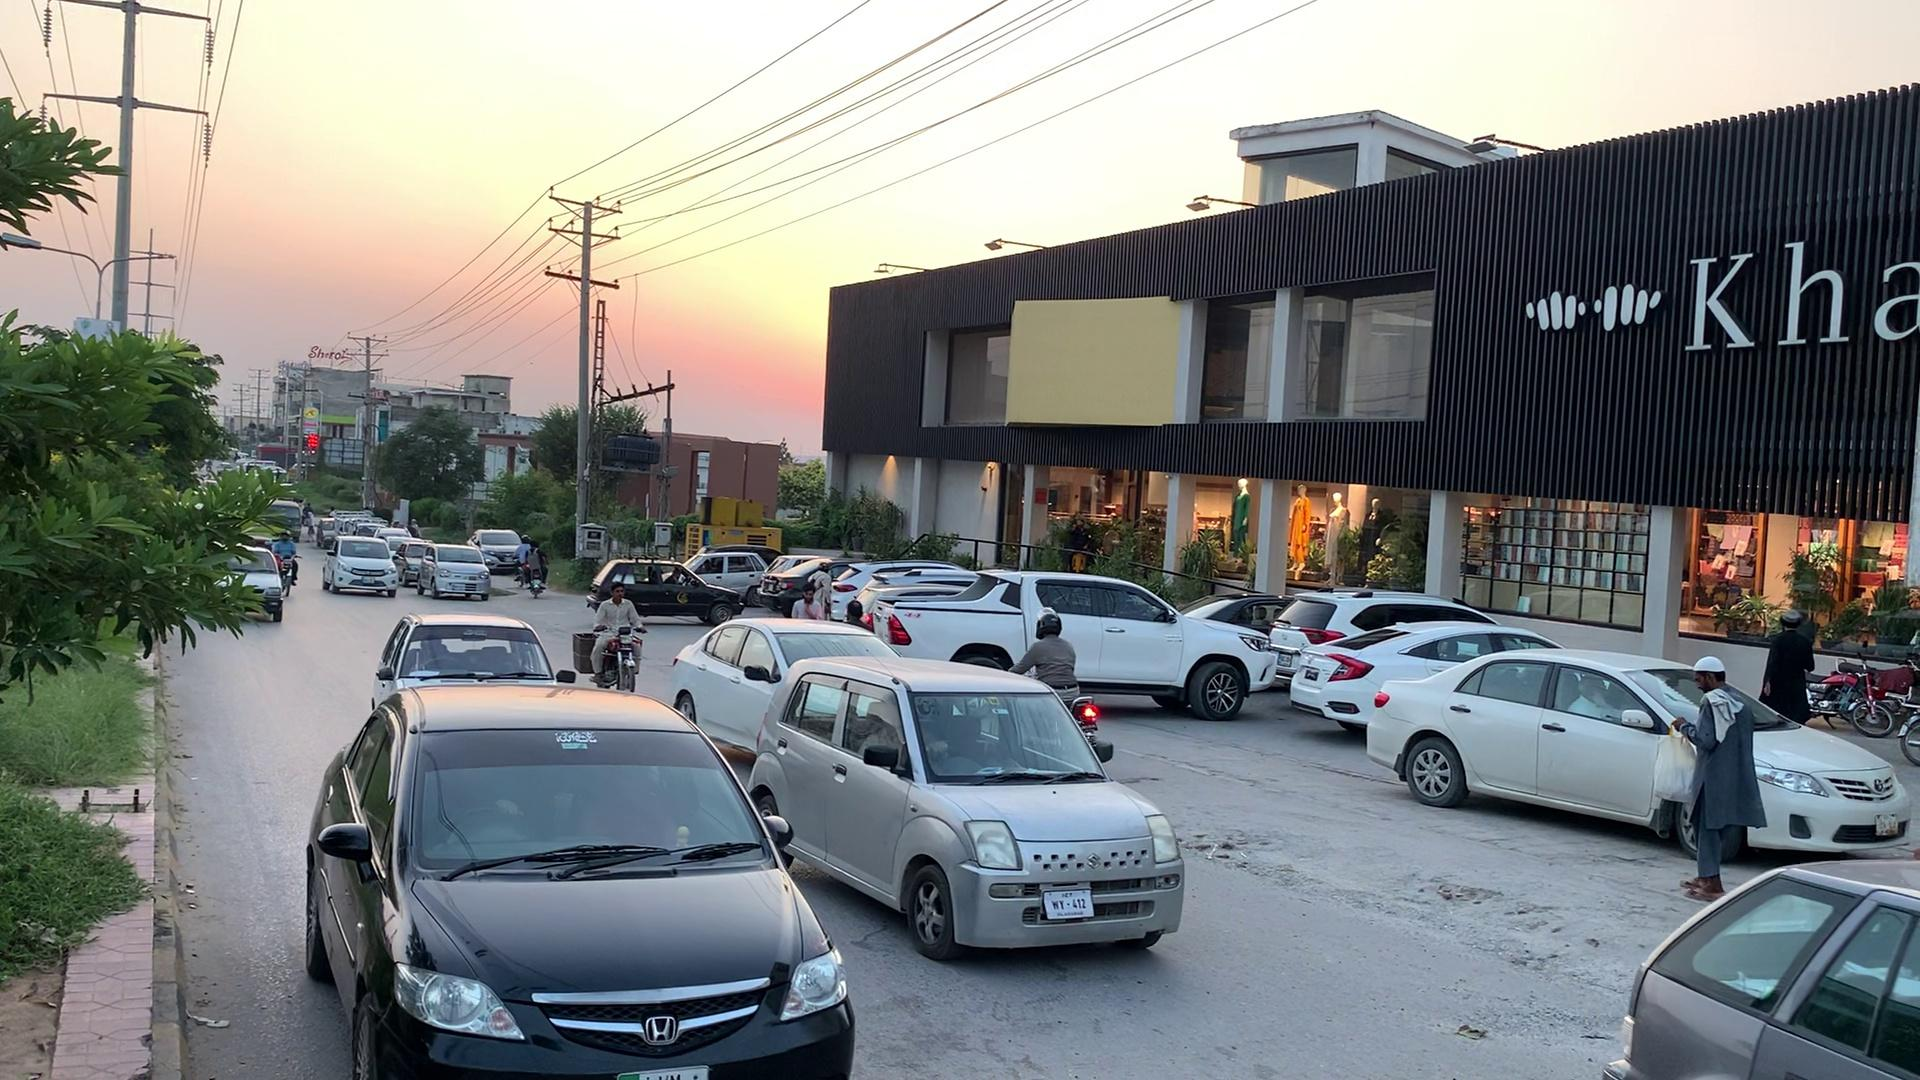windshield: (404, 703, 800, 893), (894, 676, 1124, 803)
